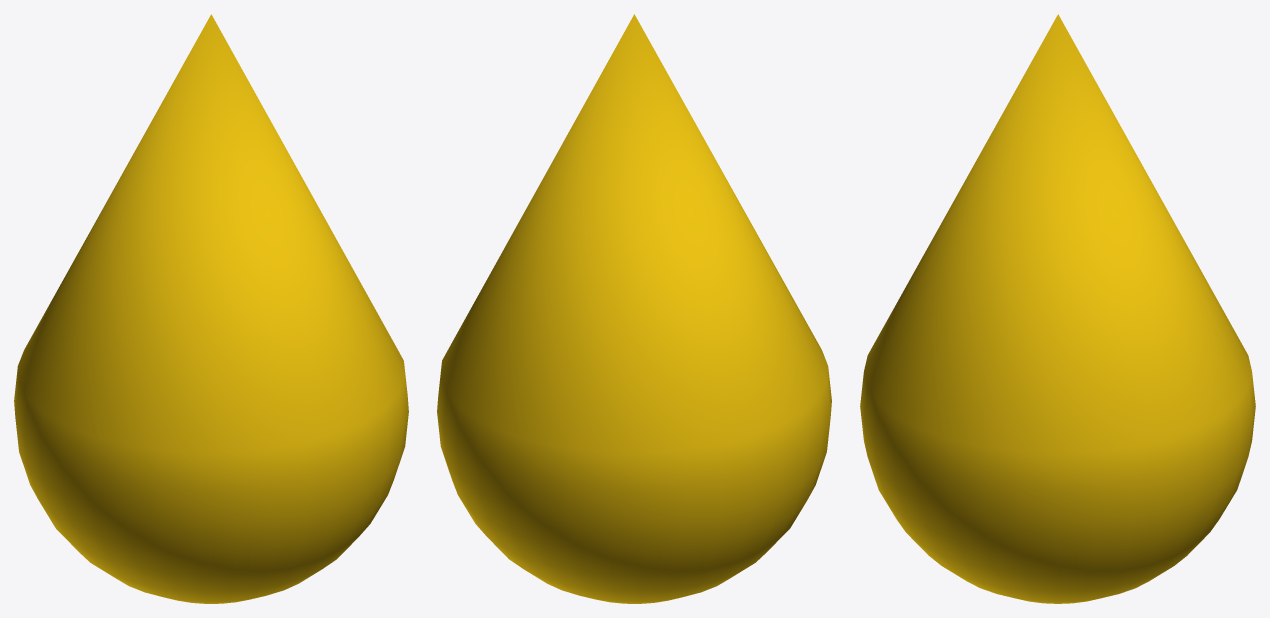
File: goccia_maio.fbx
3 renders of one model, left to right at view 1: azimuth 30°, elevation 25°; view 2: azimuth 150°, elevation 25°; view 3: azimuth 270°, elevation 25°, orthographic.
Visible parts, largest first — view 1: goccia_maio; view 2: goccia_maio; view 3: goccia_maio.
Boxes of the visible parts, left/top/right/bottom form: goccia_maio: left=14, top=14, right=408, bottom=603; goccia_maio: left=437, top=14, right=831, bottom=603; goccia_maio: left=860, top=14, right=1255, bottom=603.
Size of the model in its own units: 200 by 319 by 200.
